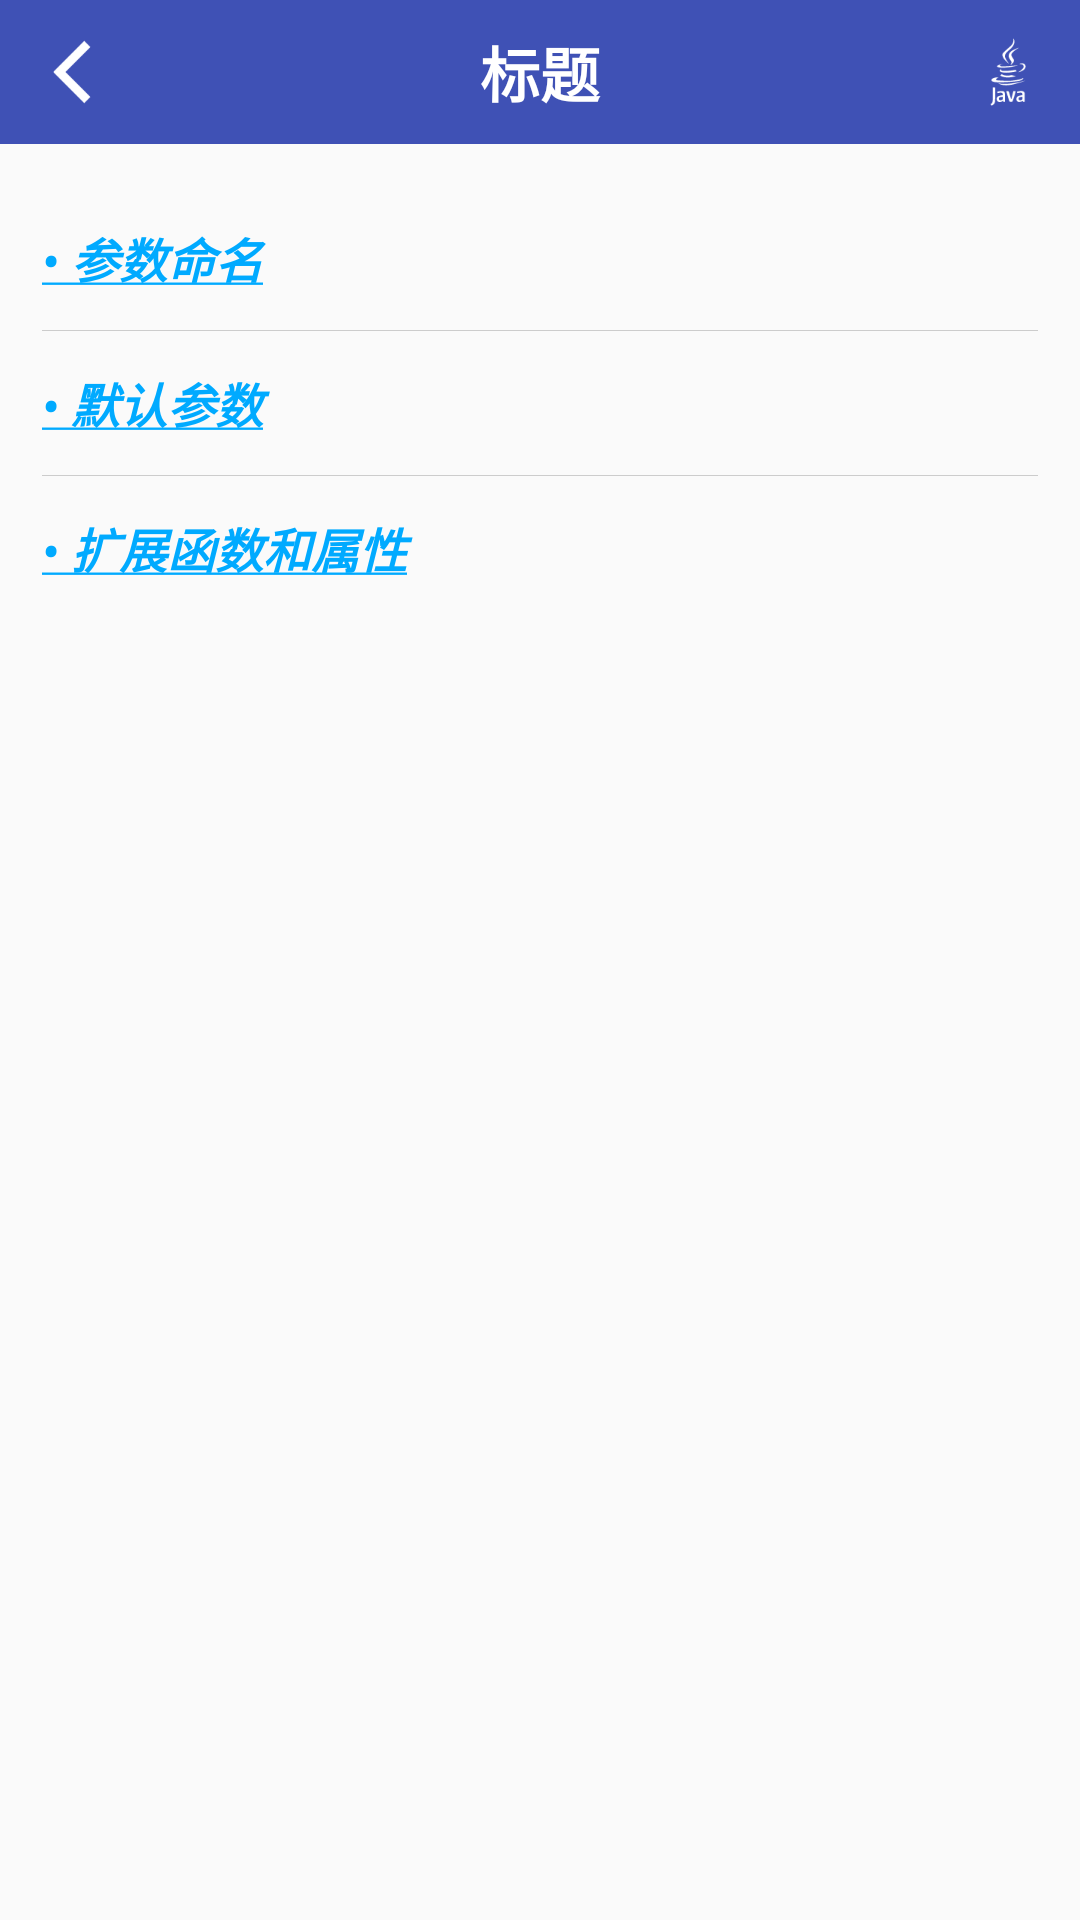

Locate icon controls on the screen. Image size 1080 × 1920, boxes as region(x1, y1, x2, y2).
title back: region(53, 41, 90, 103)
